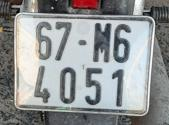0: (57, 66, 80, 104)
1: (110, 66, 128, 108)
4: (32, 64, 51, 105)
5: (83, 66, 105, 106)
6: (112, 22, 134, 66), (34, 20, 53, 62)
7: (54, 19, 73, 63)
M: (93, 21, 112, 65)
